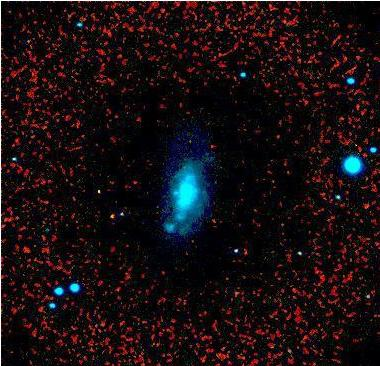star: (77, 181, 107, 211)
